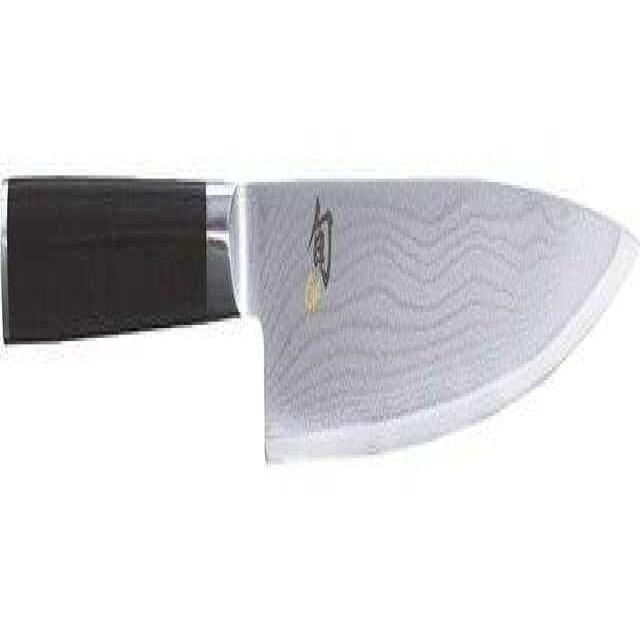Knife: (0, 167, 640, 472)
